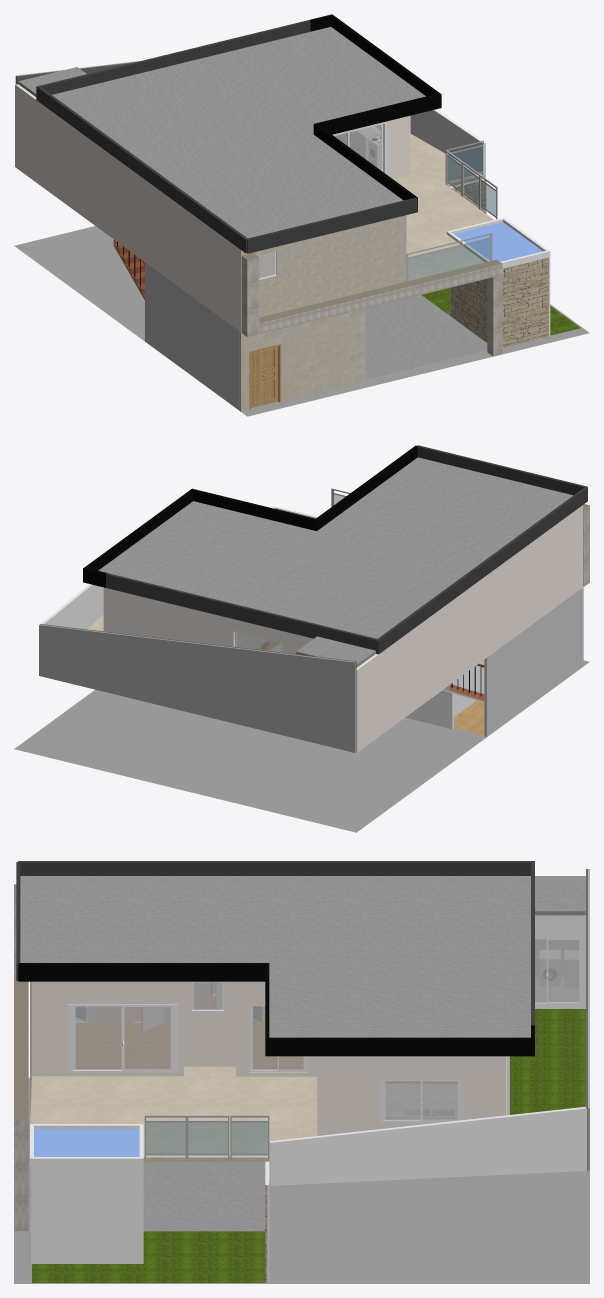
The model's file is layout4.obj.
3 views of the same model, one above another, from view 1: azimuth 30°, elevation 25°; view 2: azimuth 150°, elevation 25°; view 3: azimuth 270°, elevation 25° (orthographic). The views are drawn at different scales.
Visible parts, largest first — view 1: room_67_371, wall_37_221, wall_44_263, ground_1, room_62_364, wall_4_23, wall_10_59, room_66_370, wall_12_71, wall_25_149, wall_15_89, wall_14_82 (+26 smaller); view 2: room_67_371, ground_1, wall_1_5, wall_37_221, wall_4_23, wall_39_232, wall_14_83, wall_25_149, wall_15_89, wall_36_215, wall_24_143, wall_13_76 (+10 smaller); view 3: room_67_371, ground_1, wall_2_11, room_66_370, wall_19_113, wall_30_178, room_62_364, room_78_392, wall_26_155, wall_15_88, room_64_368, wall_42_251 (+35 smaller).
Boxes of the visible parts, x1,y1,x2,y2 form: room_67_371: (52, 27, 425, 238); wall_37_221: (47, 108, 174, 283); wall_44_263: (241, 215, 406, 332); ground_1: (14, 226, 589, 416); room_62_364: (365, 295, 487, 379); wall_4_23: (145, 262, 222, 397); wall_10_59: (287, 308, 364, 400); room_66_370: (407, 185, 493, 280); wall_12_71: (502, 257, 548, 347); wall_25_149: (174, 201, 218, 315); wall_15_89: (36, 86, 247, 253); wall_14_82: (41, 21, 310, 94); room_67_371: (98, 457, 572, 638); ground_1: (14, 660, 589, 832); wall_1_5: (39, 625, 355, 752); wall_37_221: (389, 554, 516, 728); wall_4_23: (485, 601, 564, 736); wall_39_232: (103, 587, 208, 643); wall_14_83: (106, 574, 378, 654); wall_25_149: (516, 524, 560, 635); wall_15_89: (378, 488, 587, 653); wall_36_215: (355, 647, 389, 752); wall_24_143: (556, 505, 583, 605); wall_13_76: (417, 447, 583, 495); room_67_371: (20, 876, 530, 1037); ground_1: (14, 1077, 589, 1283); wall_2_11: (270, 1108, 587, 1185); room_66_370: (30, 1076, 269, 1161); wall_19_113: (30, 1166, 143, 1263); wall_30_178: (317, 1056, 507, 1135); room_62_364: (143, 1161, 265, 1231); room_78_392: (32, 1231, 265, 1282); wall_26_155: (32, 981, 183, 1076); wall_15_88: (20, 862, 530, 875); room_64_368: (510, 1009, 585, 1114); wall_42_251: (265, 1039, 534, 1056).
Size of the model in its own units: 1356 by 664 by 1600.
